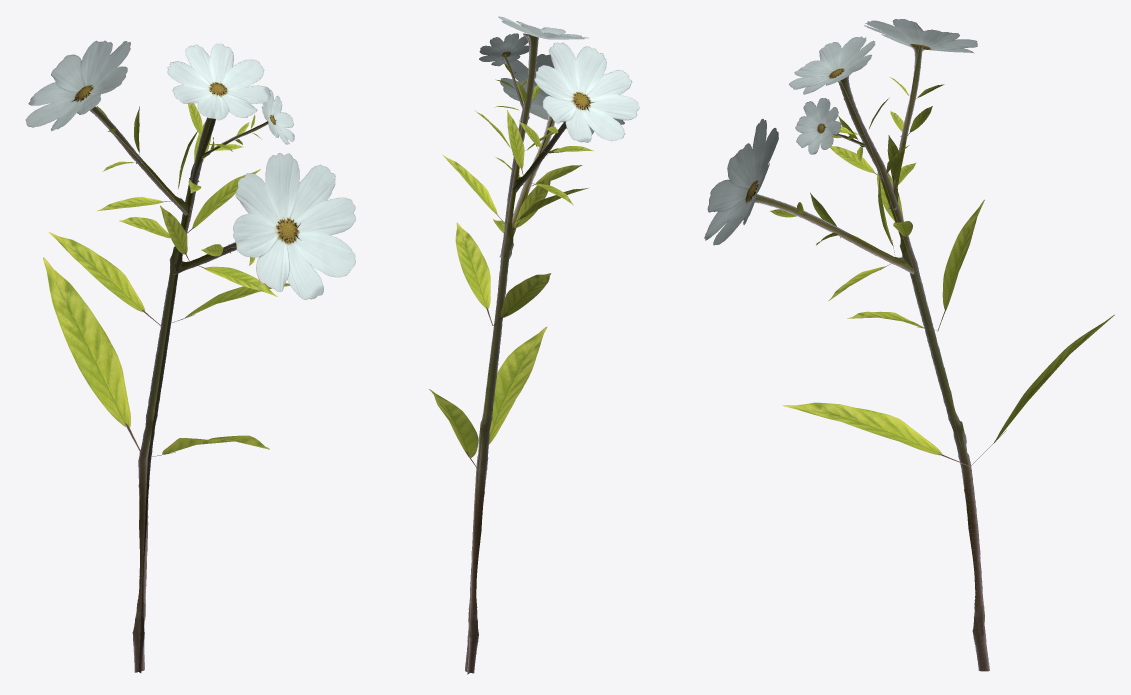
File: WhiteFLower1_1.fbx
3 views of the same model, side by side, from view 1: azimuth 30°, elevation 25°; view 2: azimuth 150°, elevation 25°; view 3: azimuth 270°, elevation 25° (orthographic). The views are drawn at different scales.
Visible parts, largest first — view 1: WhiteFLower1_1; view 2: WhiteFLower1_1; view 3: WhiteFLower1_1.
Part boxes in pixels (x1,y1,x2,y2): WhiteFLower1_1: (25, 40, 355, 672); WhiteFLower1_1: (429, 16, 639, 674); WhiteFLower1_1: (704, 19, 1114, 671).
Size of the model in its own units: 0.1531 by 0.3647 by 0.2246.
